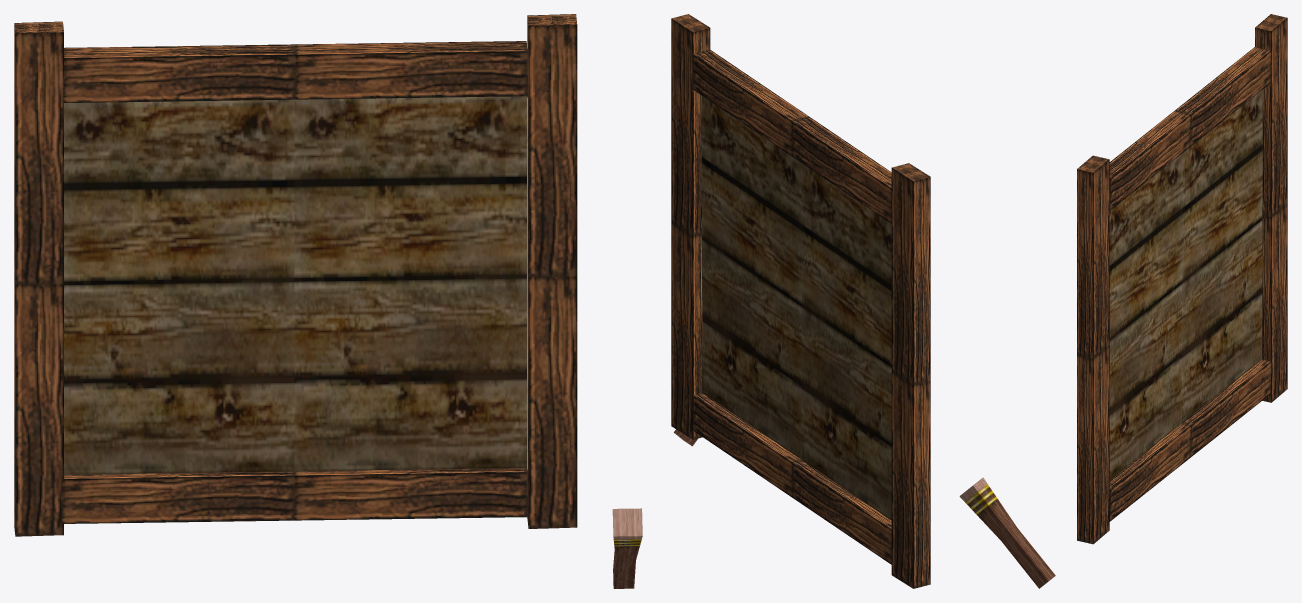
Rendered from RM_SMALL_SLUCE_SWITCH.fbx.
3 renders of one model, left to right at view 1: azimuth 30°, elevation 25°; view 2: azimuth 150°, elevation 25°; view 3: azimuth 270°, elevation 25°, orthographic. The views are drawn at different scales.
Parts seen in each view (by area): view 1: RM_SMALL_SLUCE_SWITCH; view 2: RM_SMALL_SLUCE_SWITCH; view 3: RM_SMALL_SLUCE_SWITCH.
Part boxes in pixels (x1,y1,x2,y2): RM_SMALL_SLUCE_SWITCH: (14,14,642,588); RM_SMALL_SLUCE_SWITCH: (671,14,930,588); RM_SMALL_SLUCE_SWITCH: (959,14,1287,588).
Bounding box in the file's own units: 13723 × 15499 × 11287.
3 materials, 3 textured.
